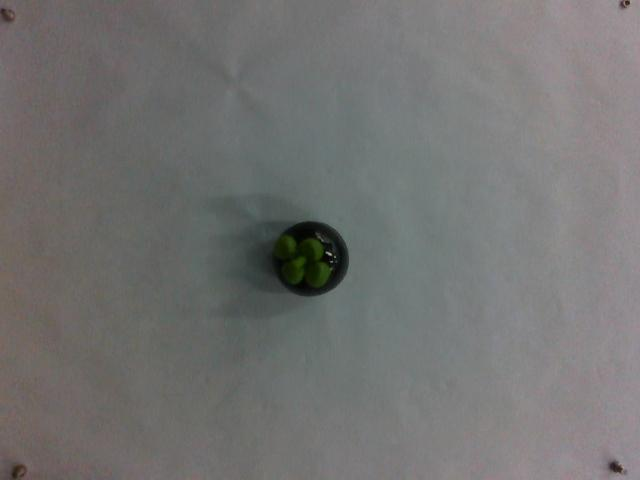mangosteen: (270, 219, 350, 300)
